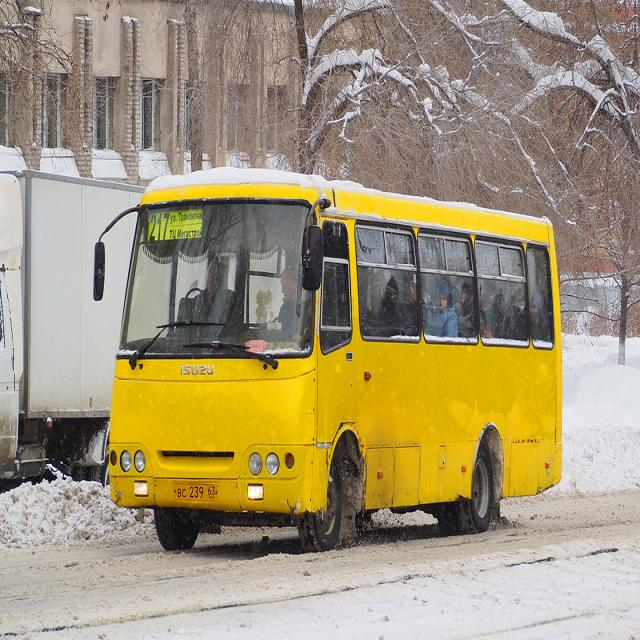number-of-bus: (150, 213, 171, 243)
